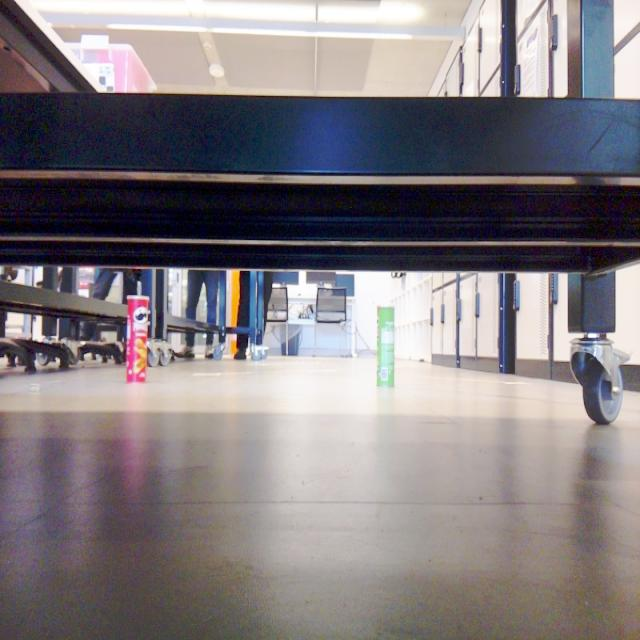greenpringles: (368, 294, 406, 398)
redpringles: (116, 284, 159, 394)
